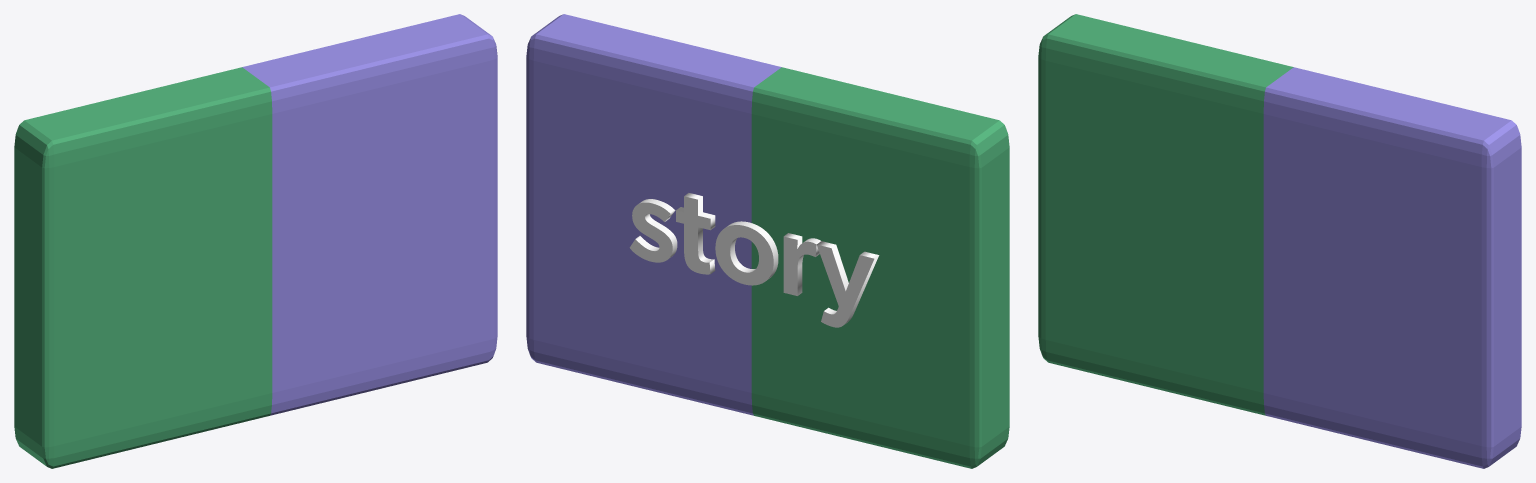
The model's file is 101_UI_STORYbutton_.fbx.
3 renders of one model, left to right at view 1: azimuth 30°, elevation 25°; view 2: azimuth 150°, elevation 25°; view 3: azimuth 330°, elevation 25°, orthographic.
Visible parts, largest first — view 1: Cube.036; view 2: Cube.036, dress me.102; view 3: Cube.036.
Part boxes in pixels (x1,y1,x2,y2): Cube.036: (14, 14, 497, 468); Cube.036: (526, 14, 1009, 468); dress me.102: (629, 193, 879, 327); Cube.036: (1038, 14, 1521, 468).
Size of the model in its own units: 76.88 by 52.95 by 10.95.
